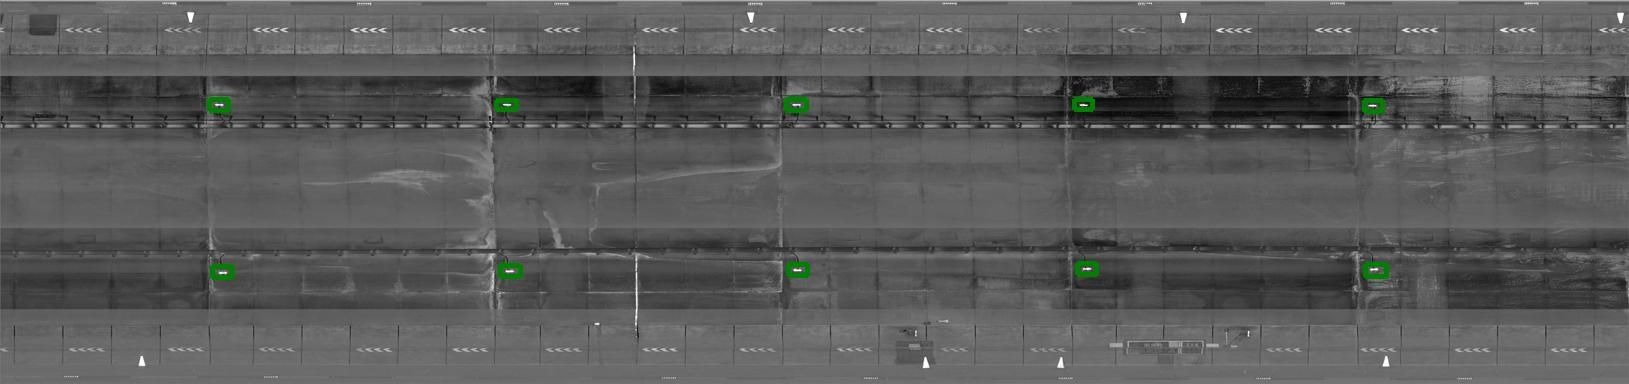light: (786, 265, 810, 278), (212, 266, 235, 279), (498, 267, 523, 278), (1365, 264, 1385, 277), (209, 100, 232, 111), (785, 100, 806, 111), (1365, 100, 1384, 112), (497, 100, 518, 110), (1078, 264, 1097, 274), (1077, 100, 1091, 111)
